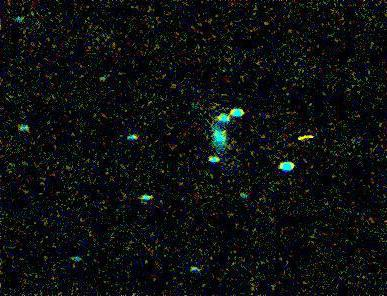star: (294, 113, 324, 143)
